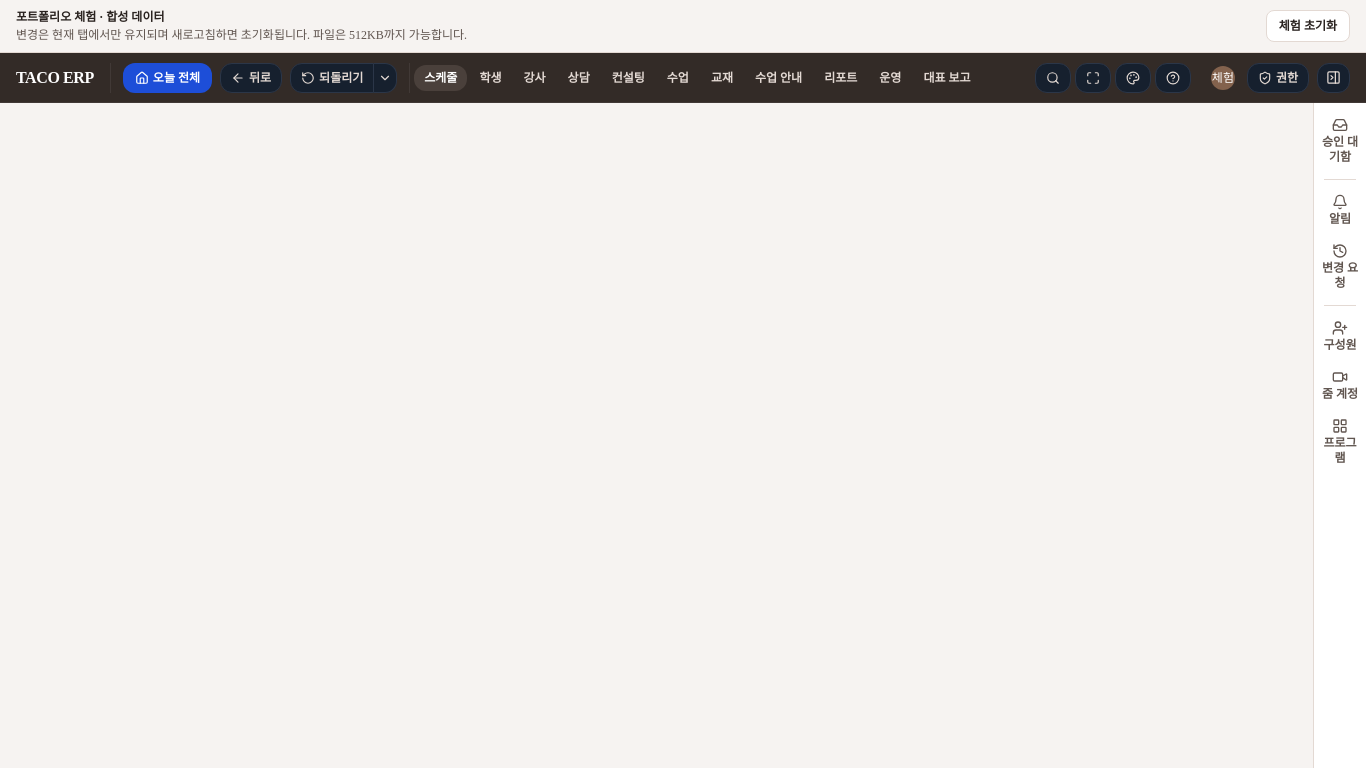
상단바 되돌리기 (원본 §16 · N-138) › 달 마감 실패는 토큰을 남기고, 마감을 푼 뒤 다시 시도할 수 있다고 알린다
The image size is (1366, 768).
Click the button "되돌리기" at (332, 78), box [290,62,374,92]
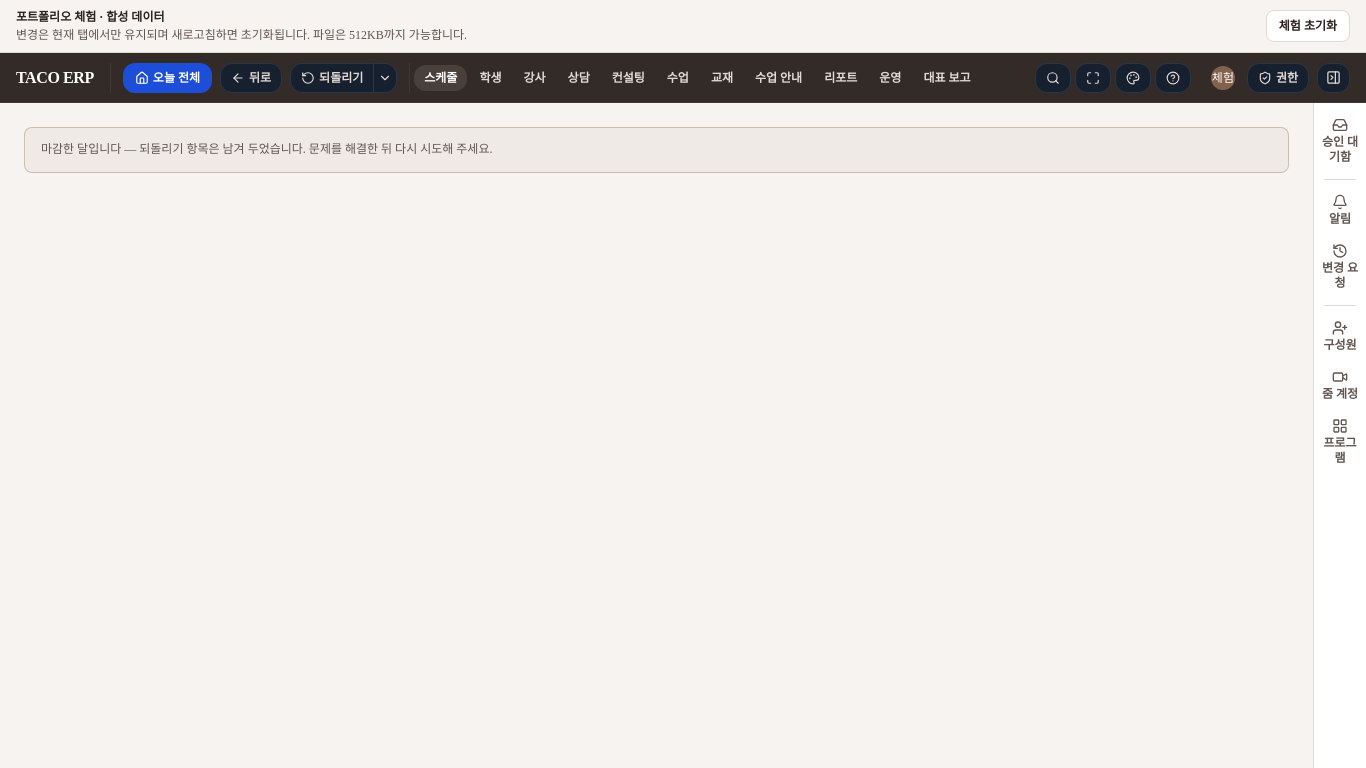
Now the text "마감한 달입니다 — 되돌리기 항목은 남겨 두었습니다. 문제를 해결한 뒤 다시 시도해 주세요." is shown, box [24,127,1289,172]
